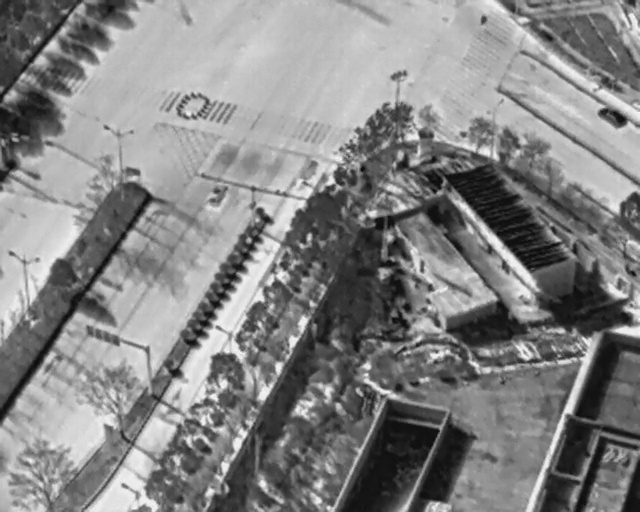Car: (595, 101, 630, 133), (206, 181, 229, 209)
Person: (480, 15, 488, 26)
